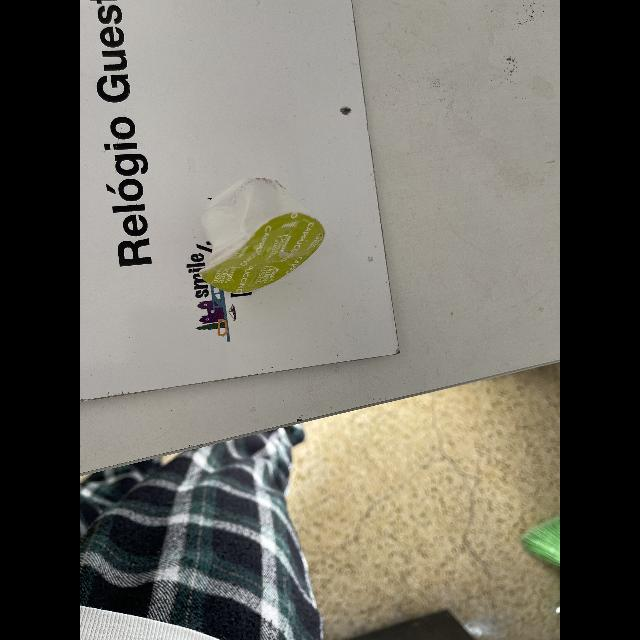damaged_capsule: (195, 168, 337, 304)
